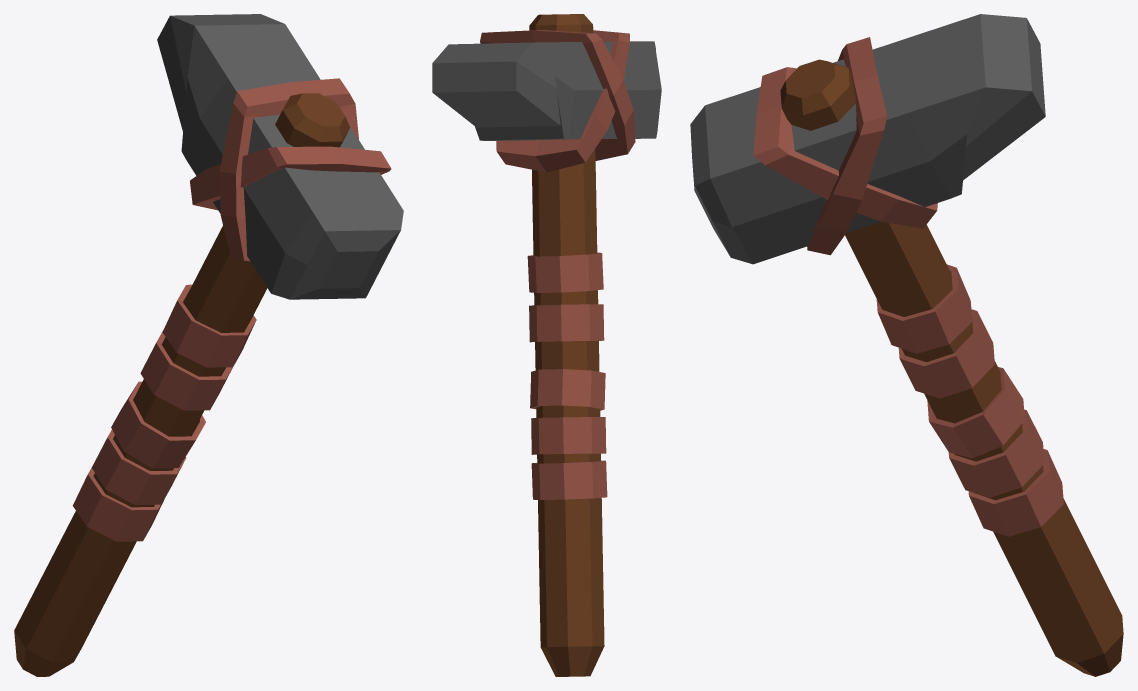
Rendered from low_poly_survival_hammer.glb.
3 views of the same model, side by side, from view 1: azimuth 30°, elevation 25°; view 2: azimuth 150°, elevation 25°; view 3: azimuth 270°, elevation 25° (orthographic). The views are drawn at different scales.
Visible parts, largest first — view 1: Hammer; view 2: Hammer; view 3: Hammer.
Part boxes in pixels (left/top/right/bottom): Hammer: left=14, top=14, right=403, bottom=676; Hammer: left=432, top=14, right=661, bottom=676; Hammer: left=690, top=14, right=1123, bottom=676.
Bounding box in the file's own units: 41.28 × 114 × 62.81.
